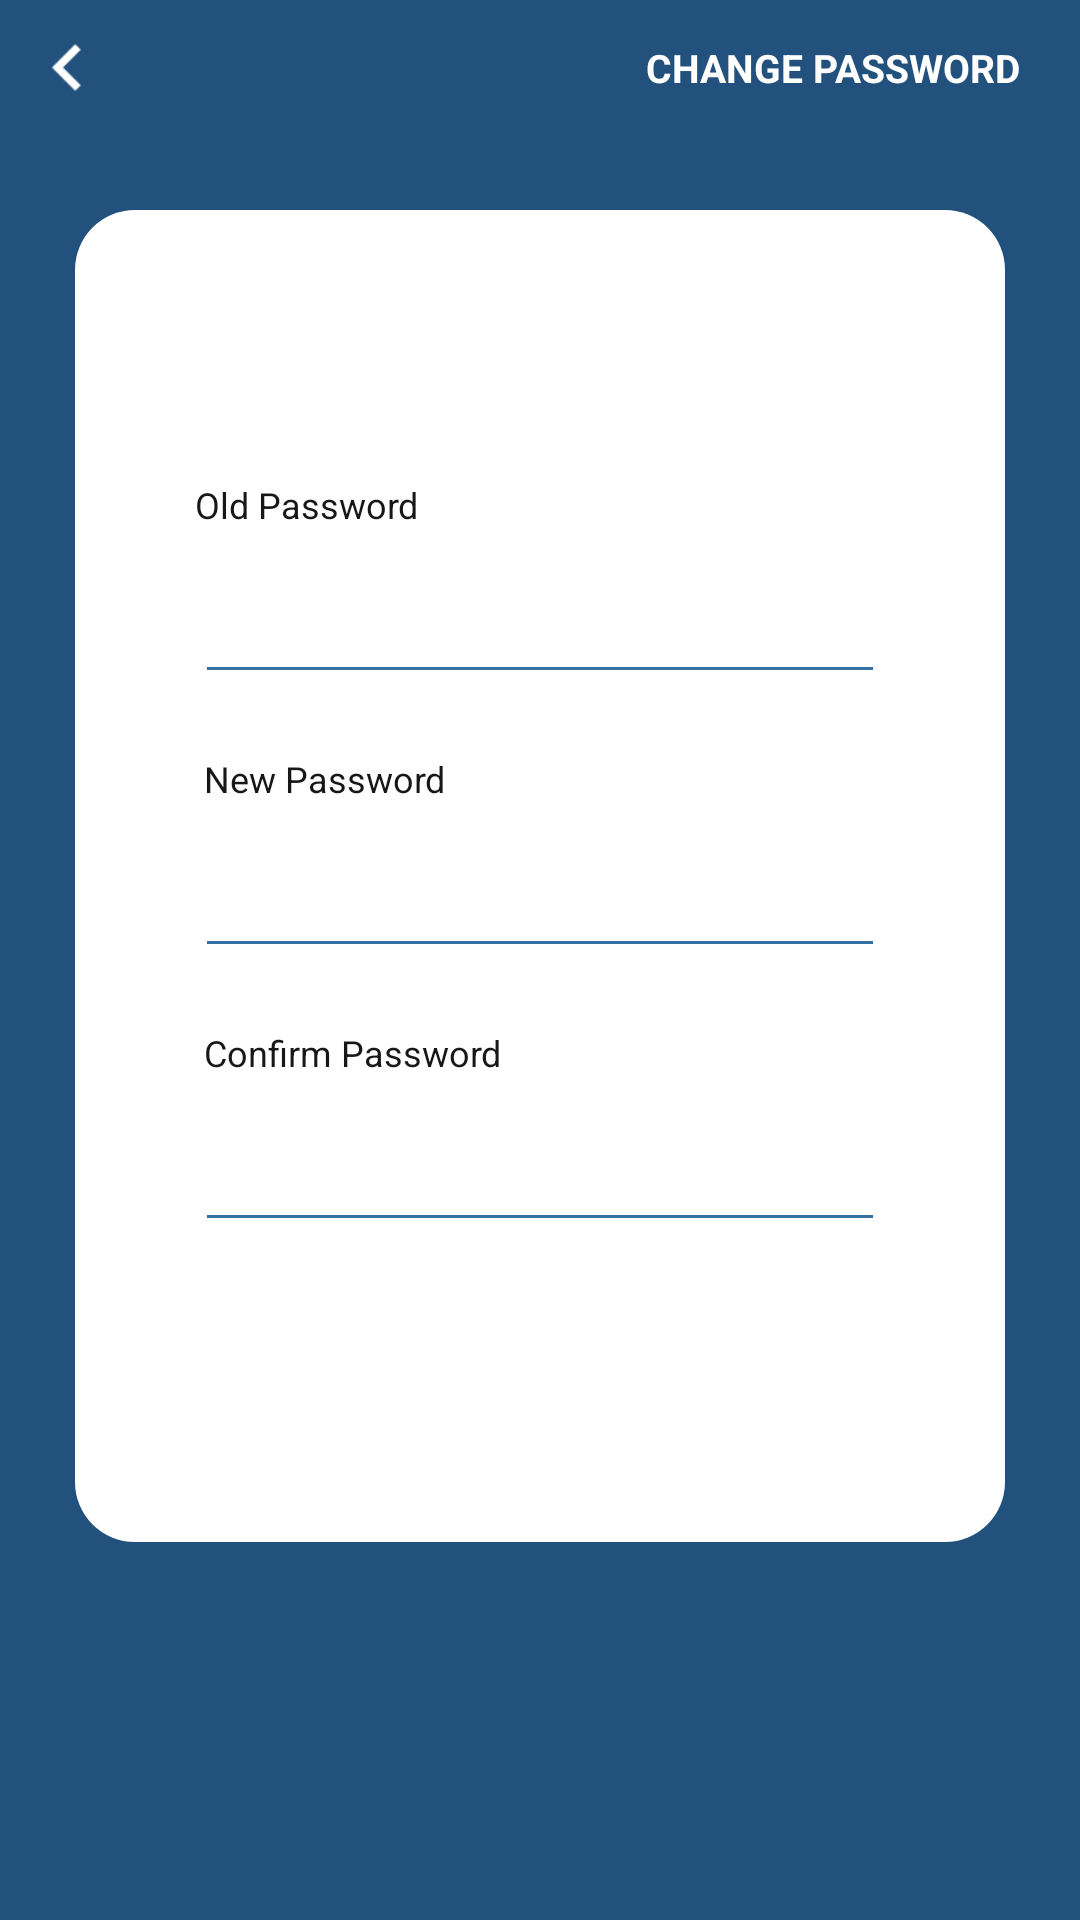

Named icons in this screenshot (1080px×1920px) and their bounding boxes, (x1, y1, x2, y2):
arrowleft: (52, 44, 81, 91)
